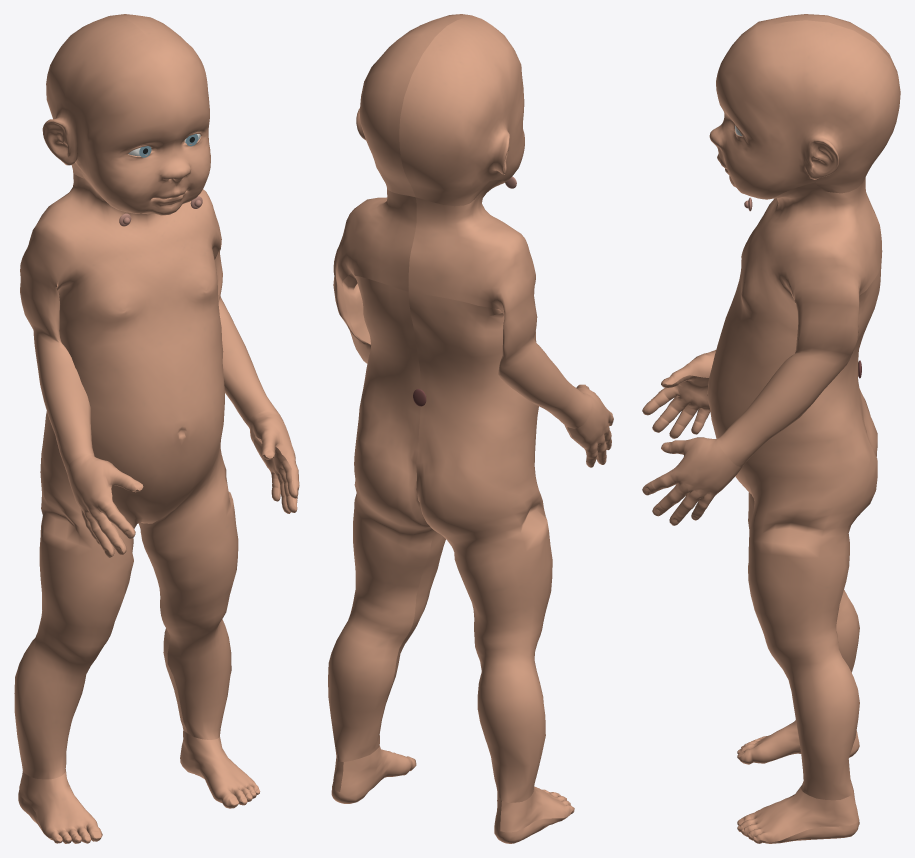
Rendered from body-baby-divers-real-v3.glb.
The picture shows the model from 3 angles, left to right: view 1: azimuth 30°, elevation 25°; view 2: azimuth 150°, elevation 25°; view 3: azimuth 270°, elevation 25°; orthographic projection.
Visible parts, largest first — view 1: real-human-body; view 2: real-human-body; view 3: real-human-body.
Part boxes in pixels (x1,y1,x2,y2): real-human-body: (14,14,299,843); real-human-body: (328,14,613,843); real-human-body: (642,14,900,843).
Bounding box in the file's own units: 0.1926 × 0.68 × 0.2053.
Materials: 7 (1 with a texture image).
